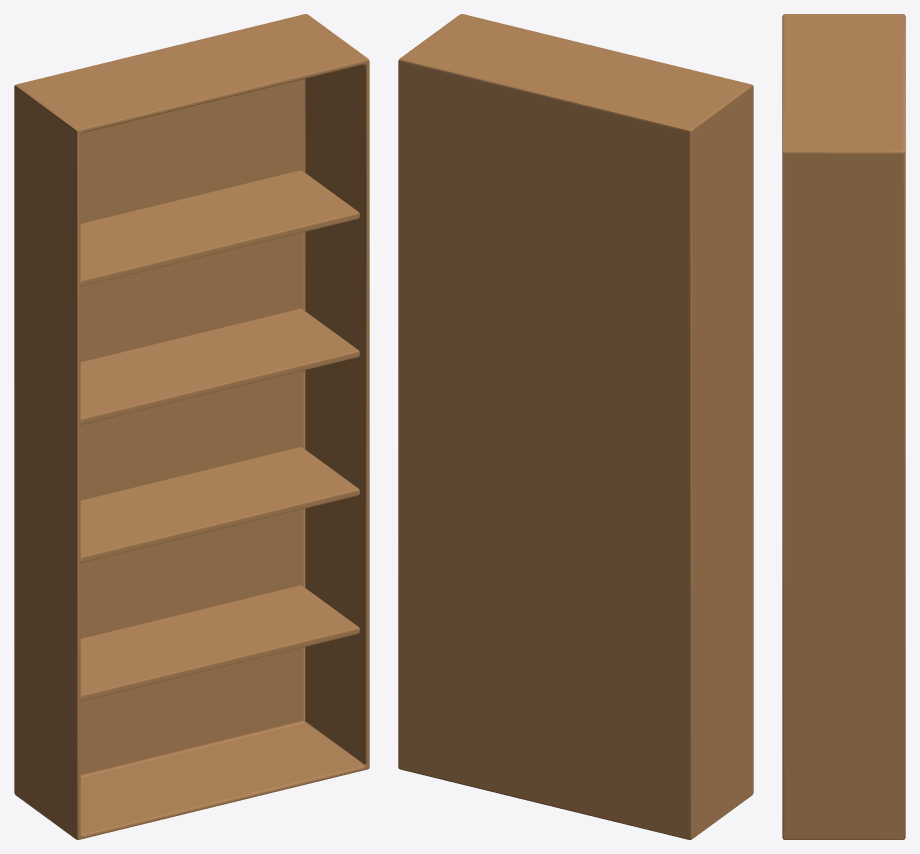
File: bookshelf.glb
3 views of the same model, side by side, from view 1: azimuth 30°, elevation 25°; view 2: azimuth 150°, elevation 25°; view 3: azimuth 270°, elevation 25° (orthographic). The views are drawn at different scales.
Visible parts, largest first — view 1: bookshelf; view 2: bookshelf; view 3: bookshelf.
Part boxes in pixels (<box>): bookshelf: <box>14,14,369,839</box>; bookshelf: <box>398,14,753,839</box>; bookshelf: <box>782,14,905,839</box>.
Bounding box in the file's own units: 0.8 × 1.85 × 0.3.
